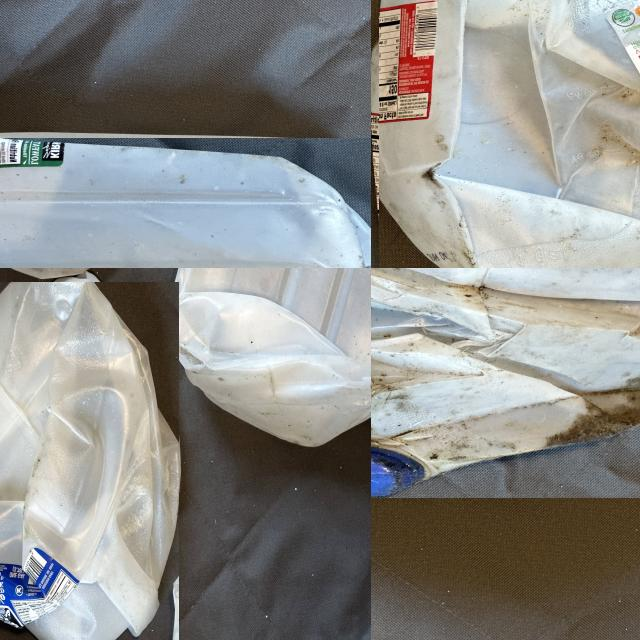milk-jug: (379, 0, 640, 268), (0, 281, 179, 640), (371, 268, 640, 497), (0, 137, 371, 268), (173, 268, 371, 443)
